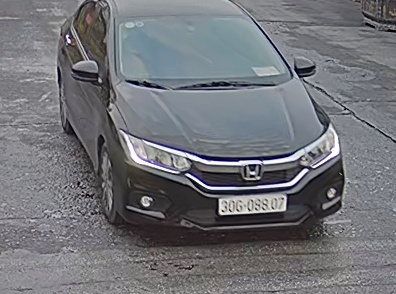vehicle plate: (215, 192, 287, 214)
